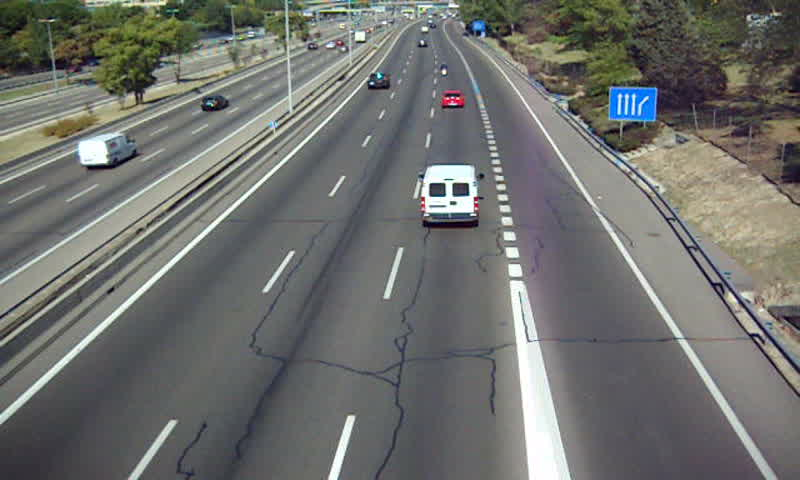car: (440, 90, 466, 110), (367, 72, 392, 90)
motorcycle: (438, 62, 450, 76)
van: (421, 165, 480, 223)
